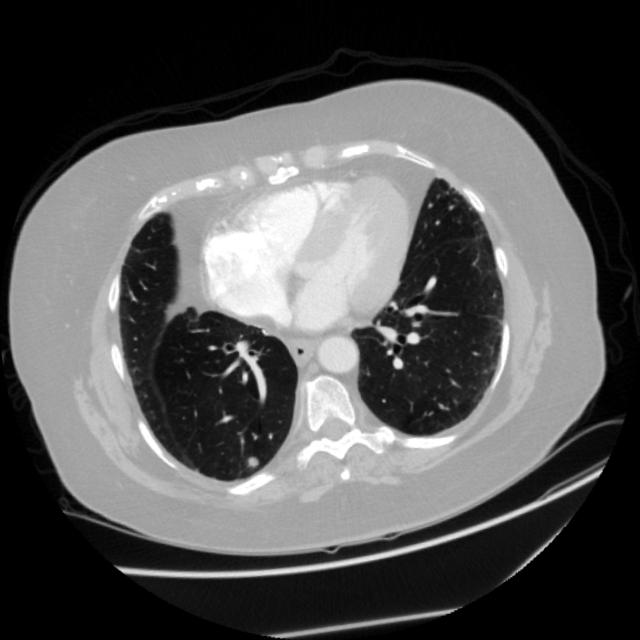nodule: (234, 445, 268, 479)
